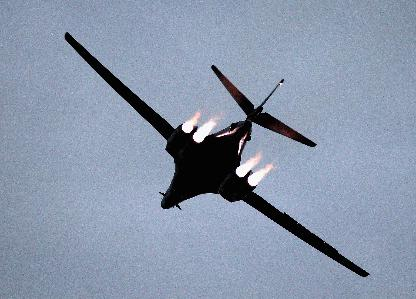AV8B: (64, 31, 368, 276)
